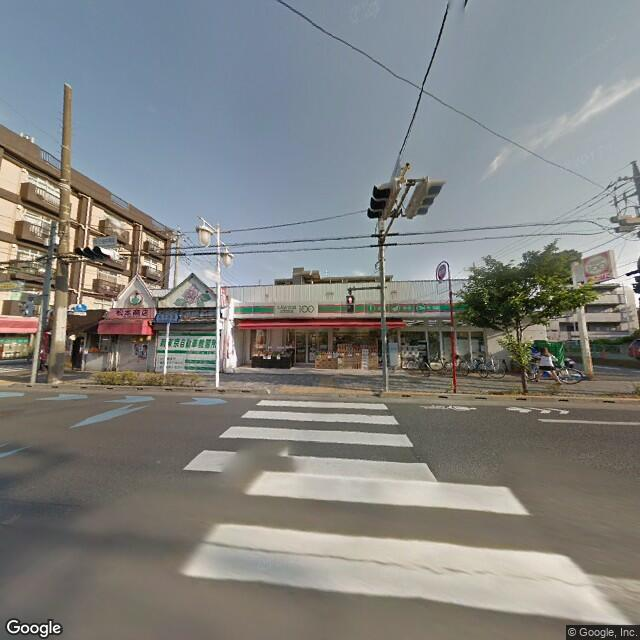lawson: (228, 298, 456, 324)
